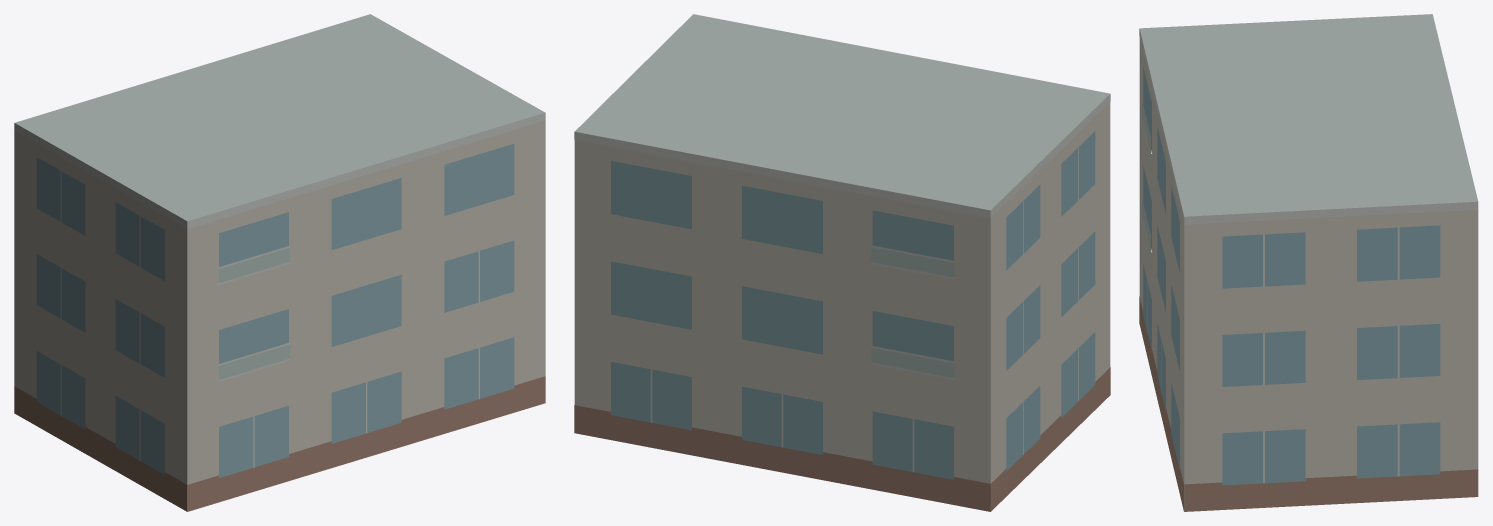
Rendered from survey-upis-32619574.glb.
3 views of the same model, side by side, from view 1: azimuth 30°, elevation 25°; view 2: azimuth 150°, elevation 25°; view 3: azimuth 270°, elevation 25° (orthographic). The views are drawn at different scales.
Parts seen in each view (by area): view 1: survey-upis-32619574.tmp; view 2: survey-upis-32619574.tmp; view 3: survey-upis-32619574.tmp.
Part boxes in pixels (<box>): survey-upis-32619574.tmp: <box>14,14,545,511</box>; survey-upis-32619574.tmp: <box>574,14,1110,511</box>; survey-upis-32619574.tmp: <box>1139,14,1478,511</box>.
Bounding box in the file's own units: 13.48 × 9.15 × 9.53.
